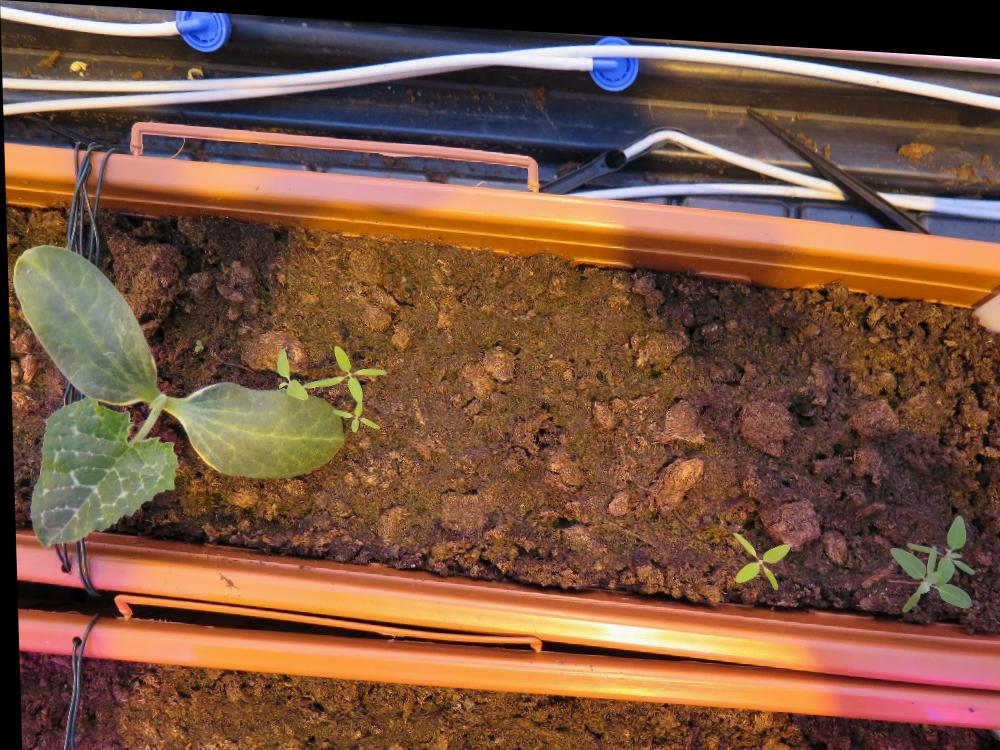weed: (727, 519, 788, 581)
